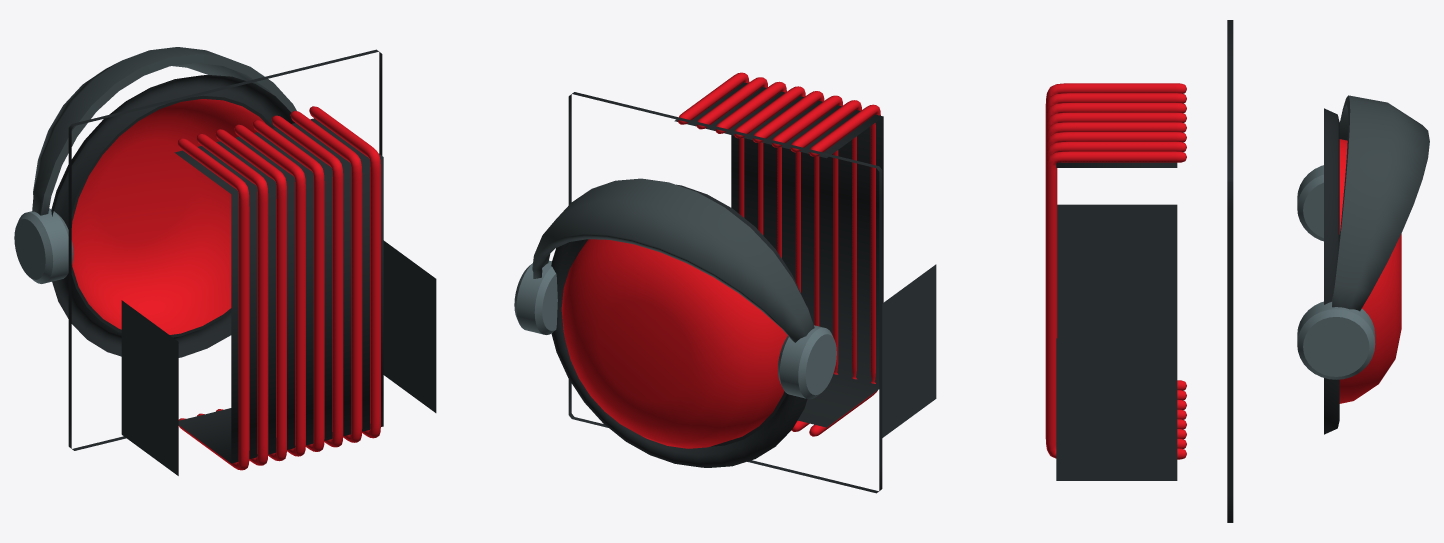
The model's file is fant_unitfacer.obj.
The picture shows the model from 3 angles, left to right: view 1: azimuth 30°, elevation 25°; view 2: azimuth 150°, elevation 25°; view 3: azimuth 270°, elevation 25°; orthographic projection. The views are drawn at different scales.
Visible parts, largest first — view 1: fant_unitfacer_Cube.001; view 2: fant_unitfacer_Cube.001; view 3: fant_unitfacer_Cube.001.
Boxes of the visible parts, box(x1,y1,x2,y2) form: fant_unitfacer_Cube.001: box(14, 47, 436, 475); fant_unitfacer_Cube.001: box(514, 72, 936, 493); fant_unitfacer_Cube.001: box(1045, 20, 1429, 522).
Bounding box in the file's own units: 1 × 1 × 1.07.
